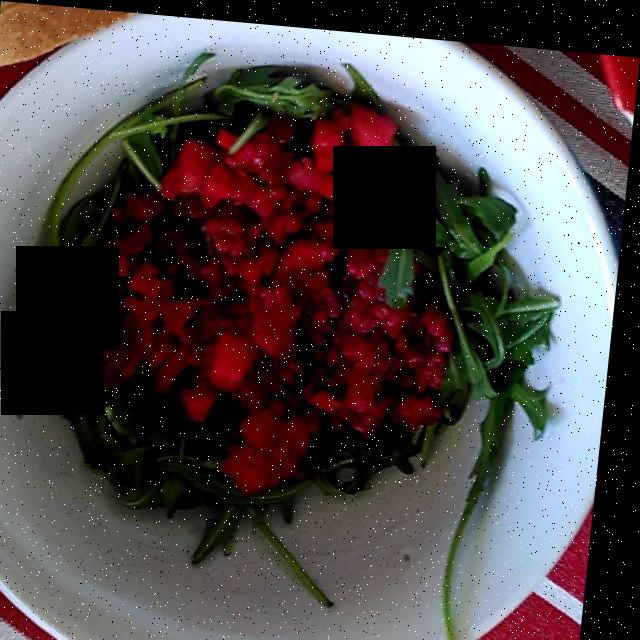bulgur: (63, 92, 462, 461)
mixed-vegetables: (137, 112, 404, 466)
salad-rocket: (6, 56, 550, 640)
